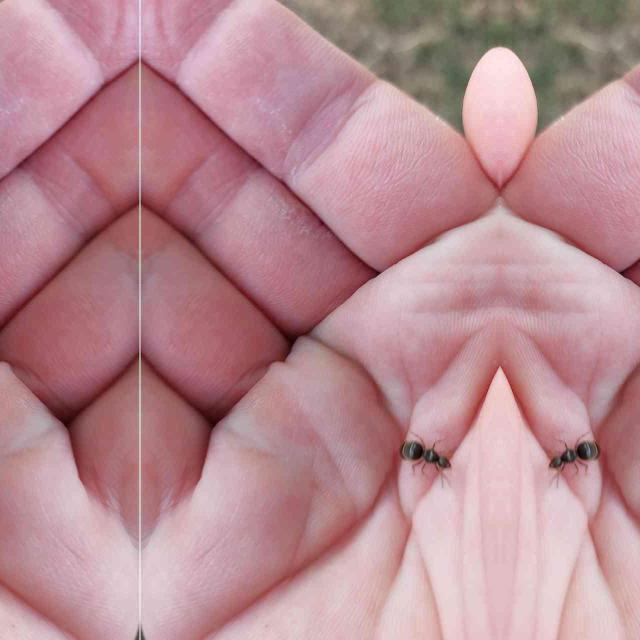Lasius: (394, 434, 454, 482), (546, 434, 606, 482)
